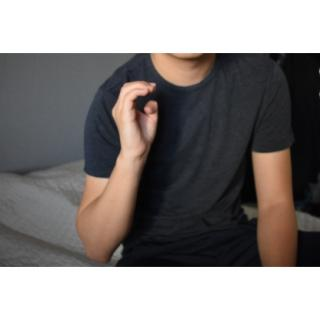JEEM: (106, 75, 166, 162)
